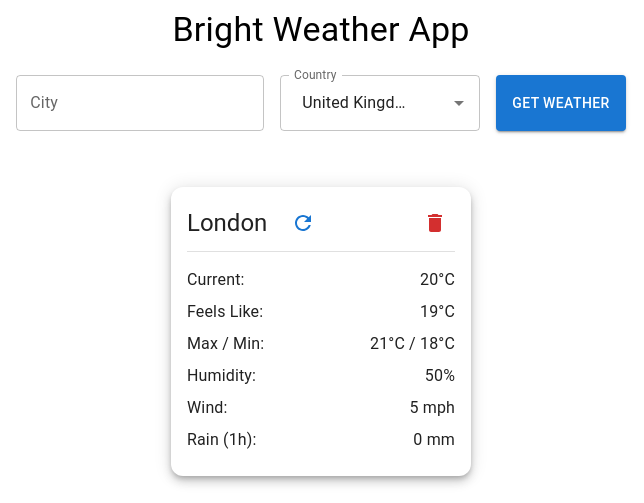
Test case: Weather component › removes a city when delete button is clicked
Click the button named "delete" at [435, 223], box [415,203,455,243]
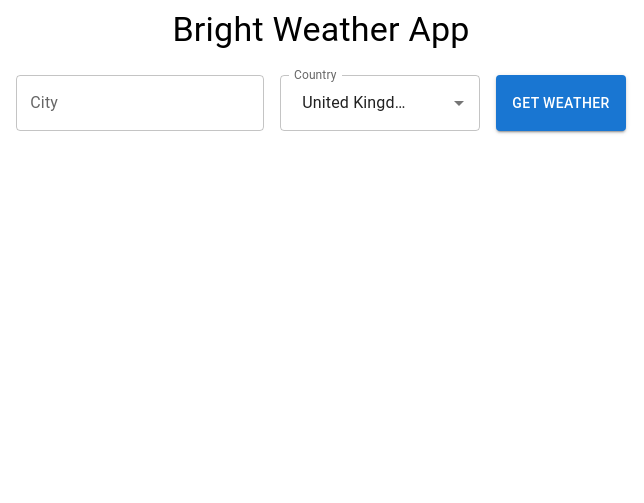
Result: the heading "London" is gone
